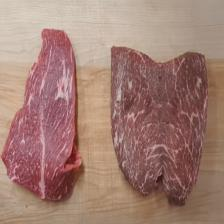meat: (111, 44, 209, 207), (1, 28, 82, 202)
